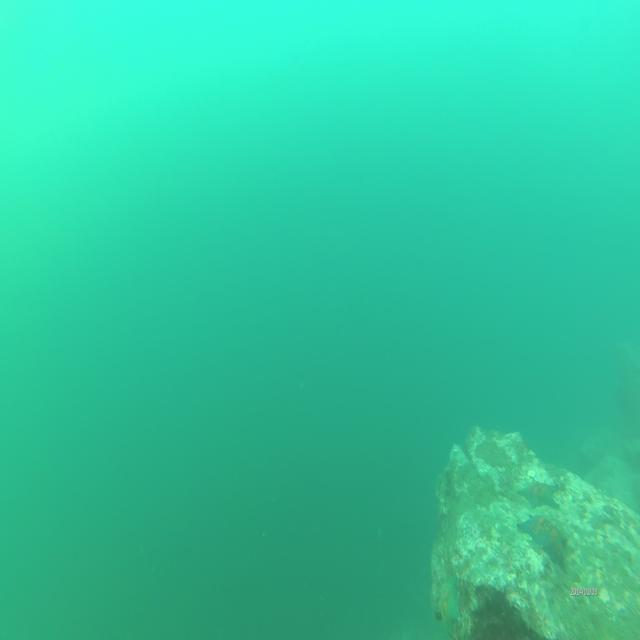starfish: (517, 508, 567, 564), (434, 574, 465, 631), (518, 476, 560, 513)
